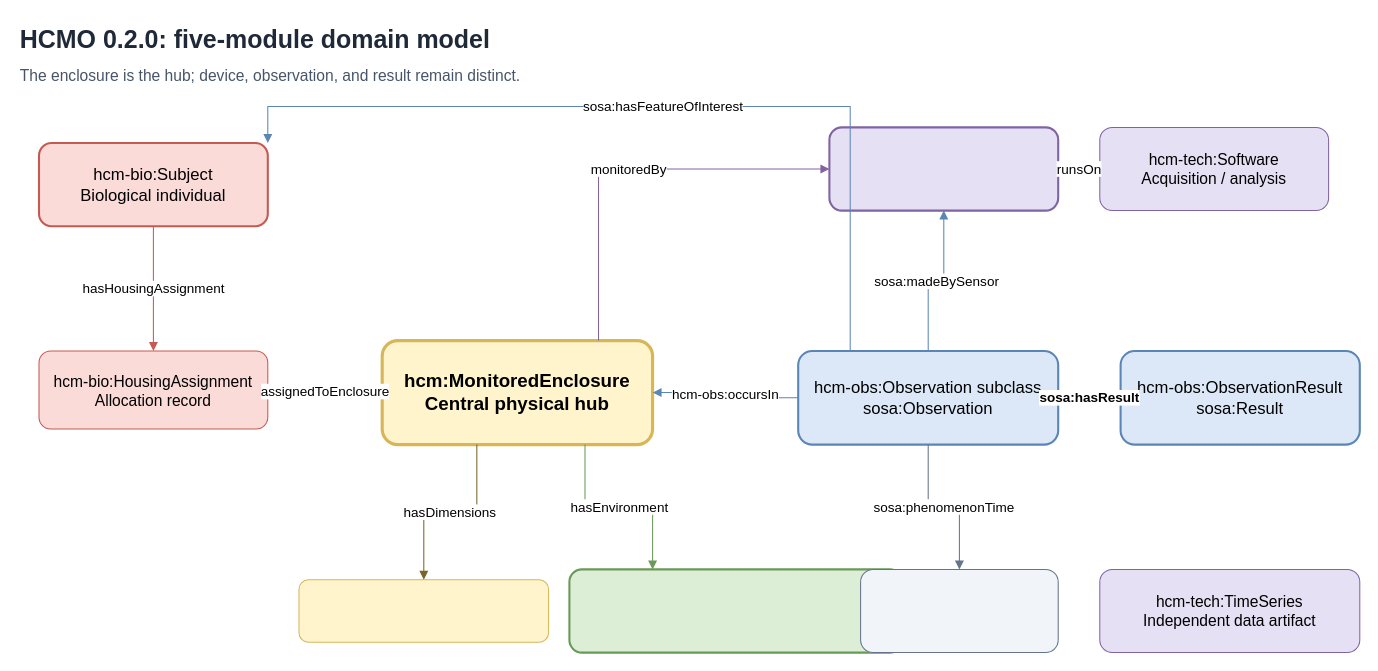
Some shapes in this 1378 by 671 pixel diagram are drawn without their labels. The centre of each missing label's shape, as x and y in pixels:
"hcm-env:EnvironmentProfile Light, gas, measurement specifications" belongs at point 735,610.
"hcm-tech:Sensor sosa:Sensor" belongs at point 943,168.
"hcm:EnclosureDimensions" belongs at point 423,610.
"time:Interval phenomenon time" belongs at point 959,610.
